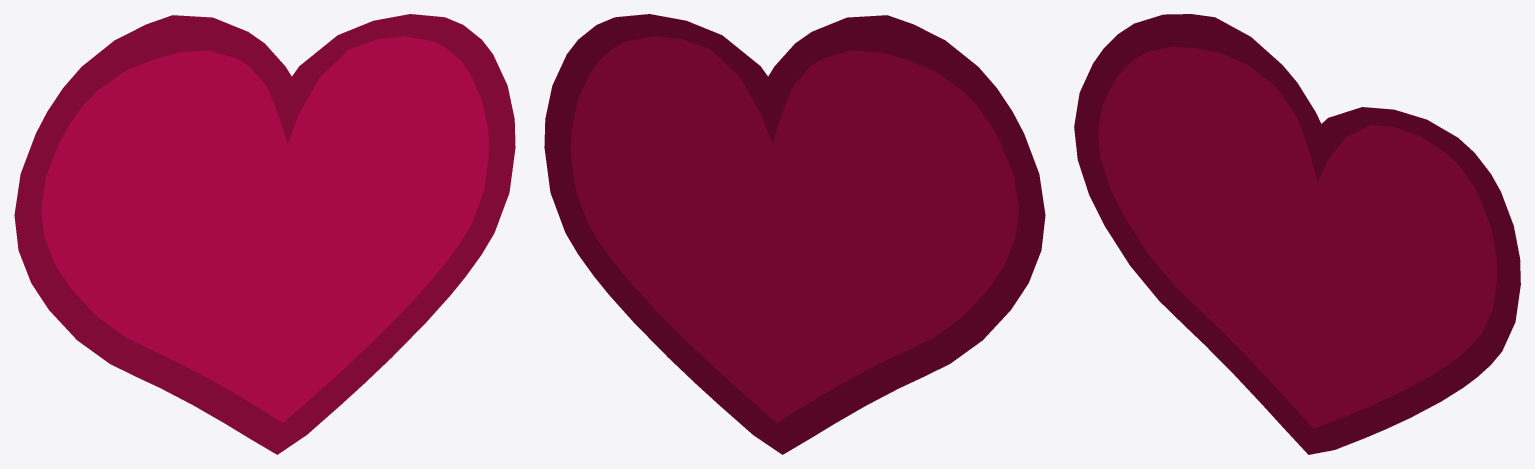
The model's file is heart1.fbx.
3 renders of one model, left to right at view 1: azimuth 30°, elevation 25°; view 2: azimuth 150°, elevation 25°; view 3: azimuth 330°, elevation 25°, orthographic. The views are drawn at different scales.
Visible parts, largest first — view 1: heart1; view 2: heart1; view 3: heart1.
Boxes of the visible parts, <box> form: heart1: <box>14,14,515,454</box>; heart1: <box>544,14,1045,454</box>; heart1: <box>1074,14,1520,454</box>.
Size of the model in its own units: 0.9223 by 0.8185 by 5.42e-22.
